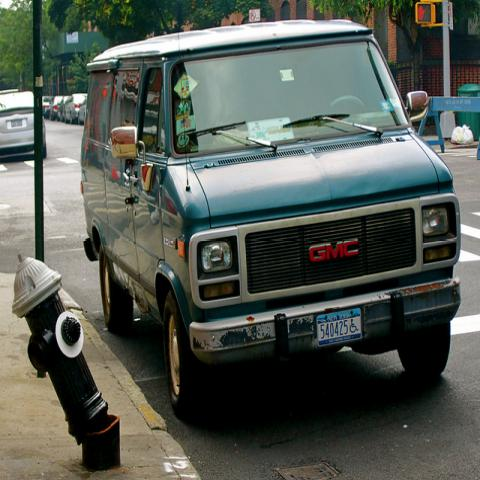car: (80, 19, 461, 421), (0, 89, 46, 162), (64, 92, 87, 124), (49, 96, 63, 120), (42, 96, 54, 118), (58, 95, 68, 121), (78, 102, 86, 124)
truck: (82, 17, 464, 421)
